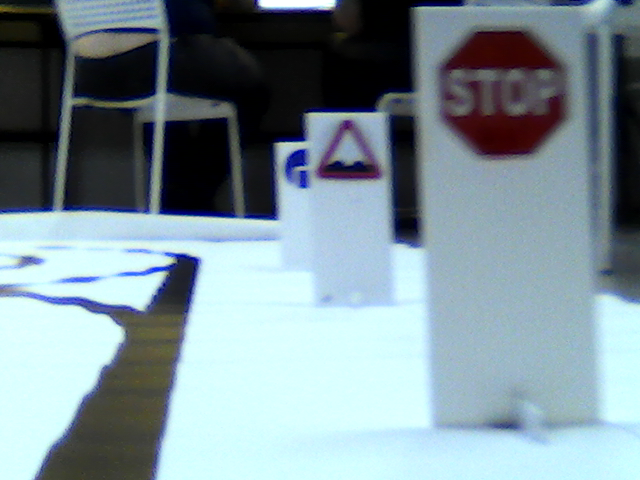Nerov: (316, 116, 382, 181)
Stop: (438, 21, 568, 165)
